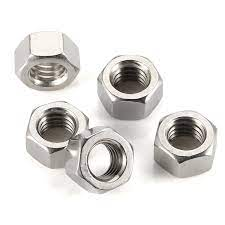Thread: (99, 51, 156, 103), (81, 136, 129, 185), (33, 104, 82, 146), (21, 53, 67, 94), (163, 114, 209, 154)
